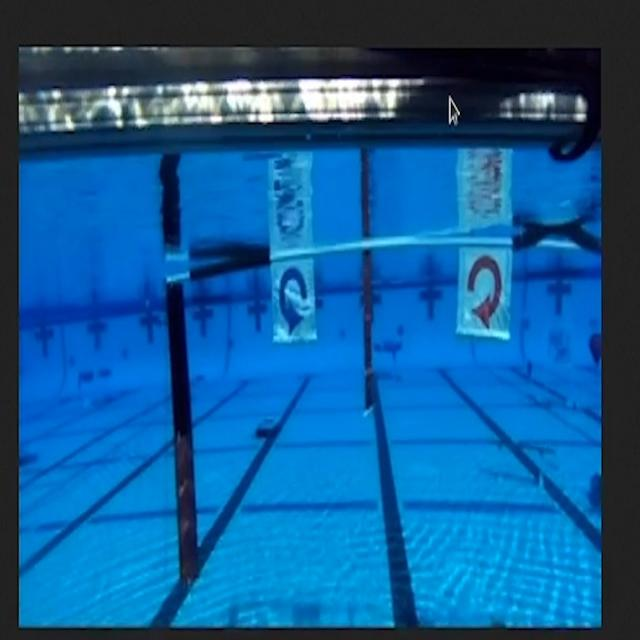Gate: (157, 243, 604, 561)
